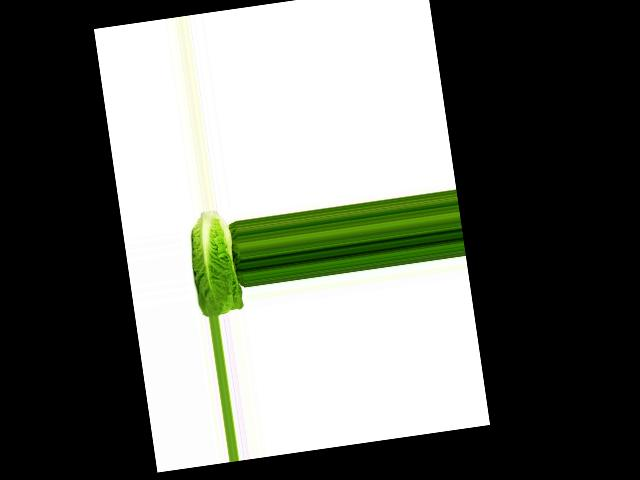lettuce: (178, 208, 242, 320)
